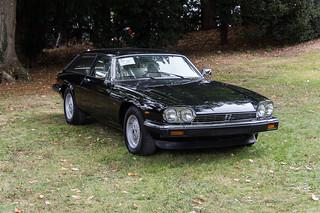fender-dent: (112, 85, 158, 111)
